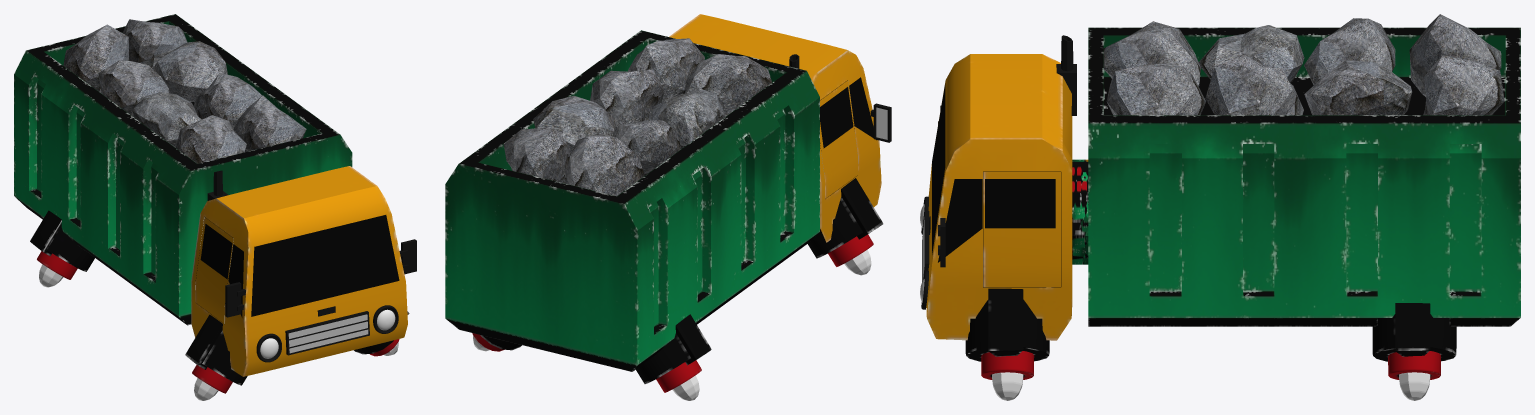
File: FlyingTruck.fbx
3 renders of one model, left to right at view 1: azimuth 30°, elevation 25°; view 2: azimuth 150°, elevation 25°; view 3: azimuth 270°, elevation 25°, orthographic. The views are drawn at different scales.
Visible parts, largest first — view 1: Cube.001, Cube, Cube.008, Icosphere.005, Icosphere.006, Icosphere.001, Icosphere, Icosphere.004, Icosphere.002, Cube.010, Icosphere.003, Cylinder.006 (+11 smaller); view 2: Cube.001, Cube, Icosphere.006, Icosphere, Icosphere.003, Icosphere.007, Icosphere.001, Icosphere.005, Icosphere.002, Cylinder.004, Cylinder.006, Icosphere.004 (+7 smaller); view 3: Cube.001, Cube, Icosphere.005, Icosphere.003, Icosphere.001, Cylinder.006, Icosphere.007, Cylinder.004, Cube.006, Icosphere.006, Icosphere.004, Icosphere (+8 smaller).
Boxes of the visible parts, x1,y1,x2,y2 form: Cube.001: (14,14,352,325); Cube: (191,166,407,376); Cube.008: (251,215,399,316); Icosphere.005: (153,41,227,102); Icosphere.006: (63,24,128,93); Icosphere.001: (233,95,306,152); Icosphere: (176,115,246,163); Icosphere.004: (98,60,168,114); Icosphere.002: (131,92,201,147); Cube.010: (285,311,369,355); Icosphere.003: (193,73,262,128); Cylinder.006: (185,311,409,385); Cube.001: (445,30,819,371); Cube: (669,14,881,242); Icosphere.006: (567,134,644,196); Icosphere: (685,54,772,116); Icosphere.003: (590,69,664,132); Icosphere.007: (503,127,570,184); Icosphere.001: (627,38,704,102); Icosphere.005: (533,95,617,155); Icosphere.002: (651,88,725,147); Cylinder.004: (480,314,711,383); Cylinder.006: (808,178,883,258); Icosphere.004: (612,120,681,174); Cube.001: (1088,27,1520,326); Cube: (926,54,1072,340); Icosphere.005: (1304,60,1412,115); Icosphere.003: (1205,53,1303,115); Icosphere.001: (1106,63,1205,115); Cylinder.006: (965,288,1049,361); Icosphere.007: (1423,55,1504,115); Cylinder.004: (1372,303,1456,361); Cube.006: (985,179,1055,228); Icosphere.006: (1409,14,1501,97); Icosphere.004: (1304,18,1395,84); Icosphere: (1103,21,1200,86).
Size of the model in its own units: 143 by 149 by 267.
Materials: 12 (5 with a texture image).
